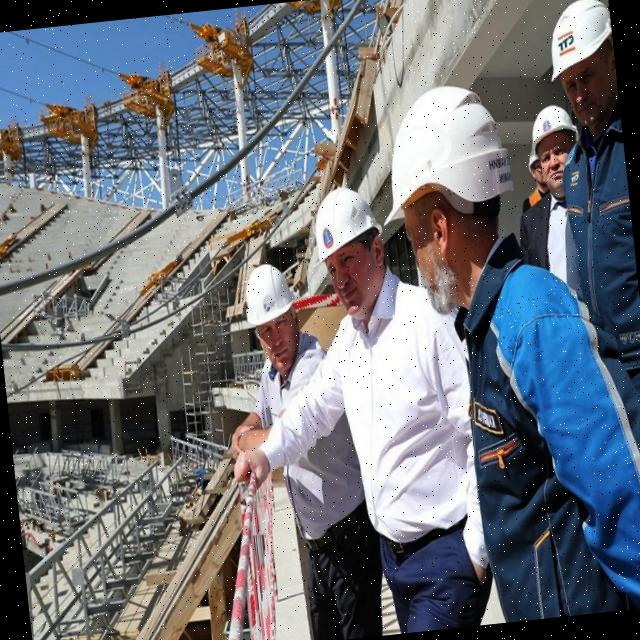Helmet: (371, 81, 515, 230), (310, 183, 385, 269), (543, 1, 617, 84), (239, 263, 300, 332), (530, 103, 576, 150), (526, 149, 541, 173)
NoJacket: (454, 248, 620, 616), (339, 287, 476, 628), (265, 348, 369, 632), (575, 111, 640, 316), (543, 187, 588, 282)
